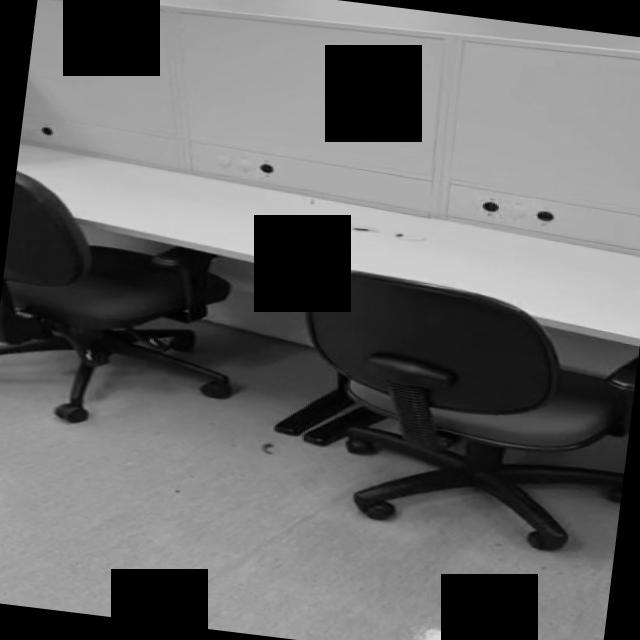cadeira-azul: (0, 169, 260, 441)
